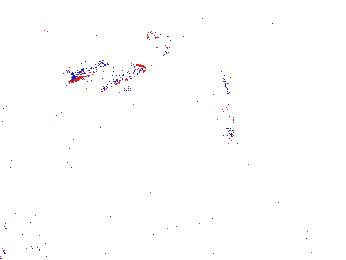glassfish: (191, 65, 236, 148)
red belly glassfish: (201, 104, 218, 113)
redtail glassfish: (153, 17, 285, 64), (160, 37, 242, 95), (66, 62, 149, 85)
